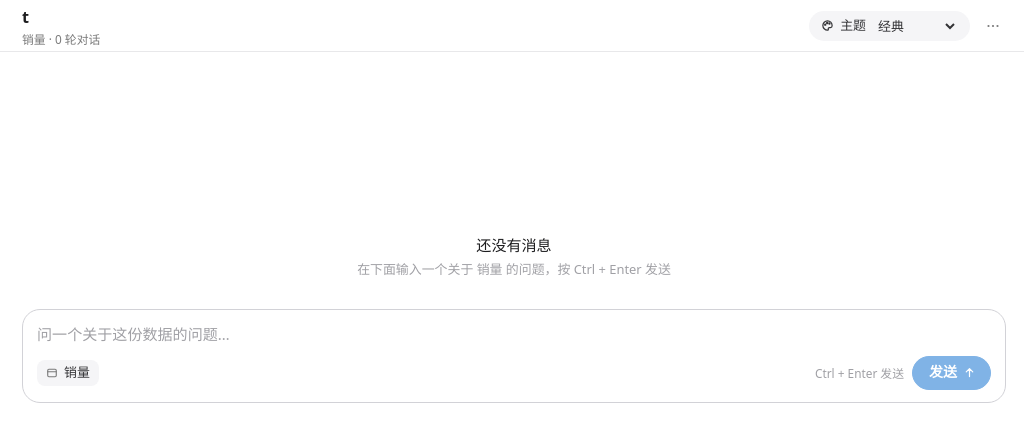
Test: 提问被拒（409）：显示错误，不留下实时气泡
Expected: the text "还没有消息" is shown, left=476, top=235, right=552, bottom=255
Type "q" into the text box named "提问" at [514, 334], box left=37, top=322, right=991, bottom=346
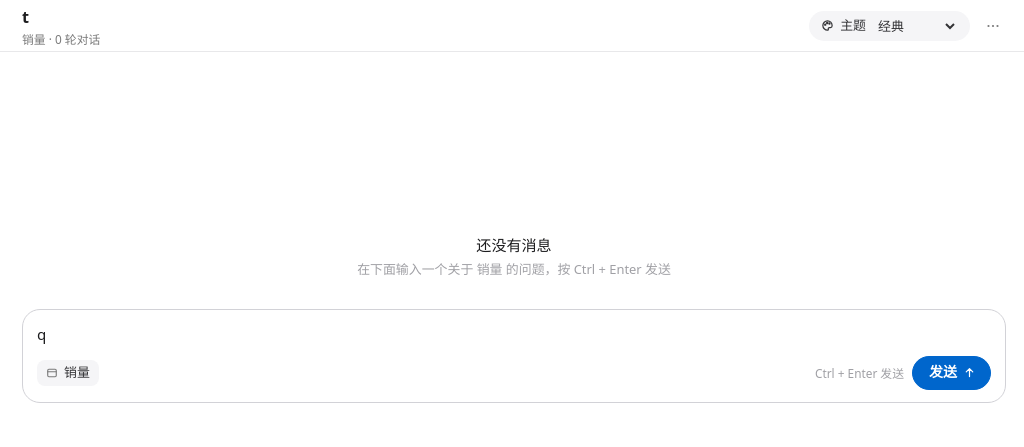
Click the button "发送" at [952, 373], box left=912, top=356, right=991, bottom=390
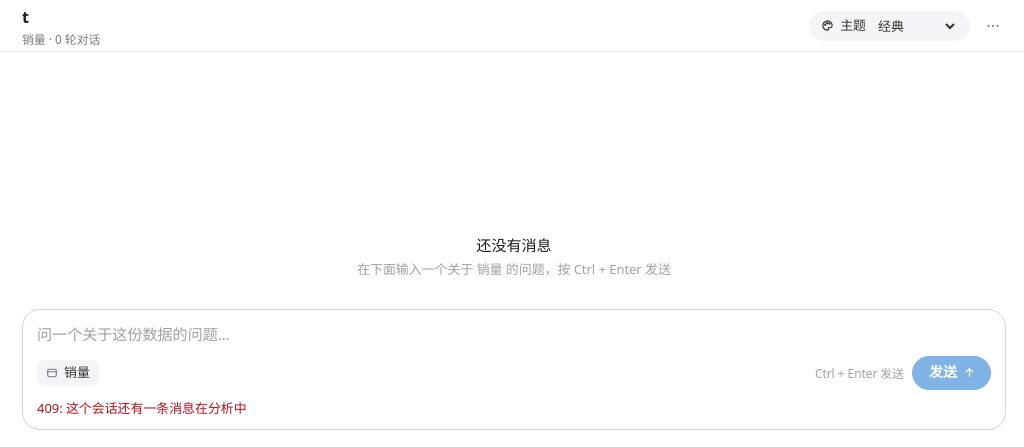
Result: the message shows "409" at left=37, top=399, right=247, bottom=417
